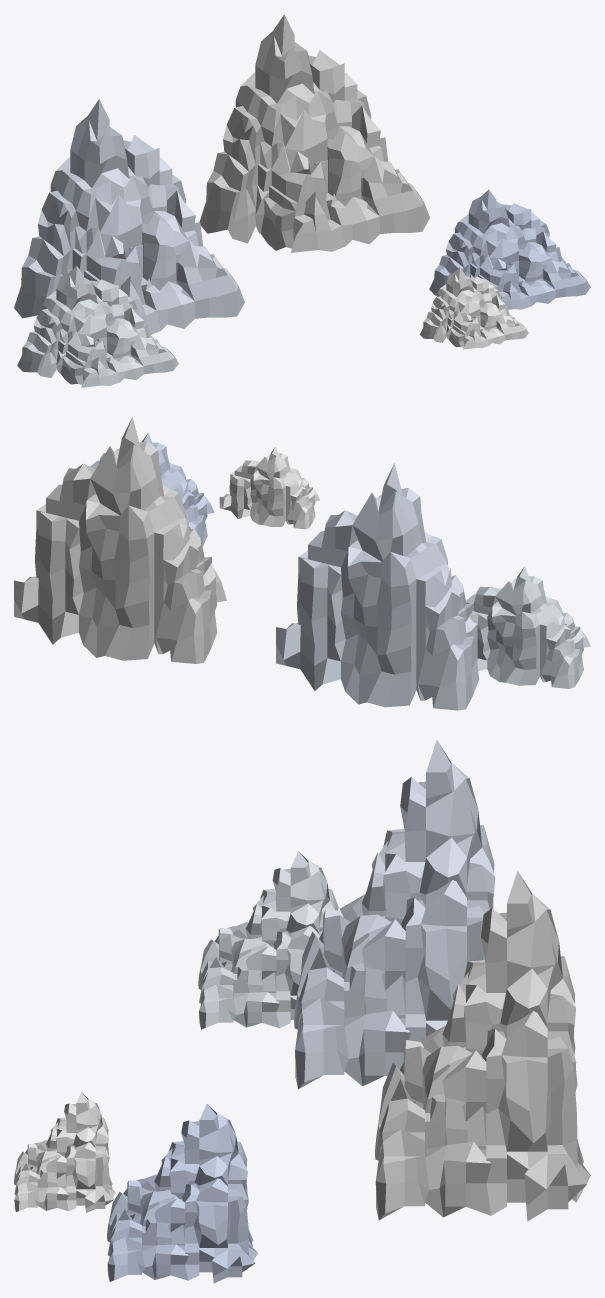
File: background.fbx
The picture shows the model from 3 angles, top to bottom: view 1: azimuth 30°, elevation 25°; view 2: azimuth 150°, elevation 25°; view 3: azimuth 270°, elevation 25°; orthographic projection. The views are drawn at different scales.
Parts seen in each view (by area): view 1: Grid, Grid.004, Grid.001, Grid.002, Grid.003; view 2: Grid, Grid.004, Grid.001, Grid.003, Grid.002; view 3: Grid, Grid.004, Grid.002, Grid.001, Grid.003.
Boxes of the visible parts, box(x1,y1,x2,y2) form: Grid: box(199, 14, 429, 252); Grid.004: box(14, 99, 244, 334); Grid.001: box(17, 266, 178, 387); Grid.002: box(429, 189, 590, 309); Grid.003: box(420, 267, 528, 349); Grid: box(14, 416, 226, 663); Grid.004: box(276, 463, 479, 710); Grid.001: box(466, 566, 590, 688); Grid.003: box(219, 447, 319, 529); Grid.002: box(90, 432, 214, 546); Grid: box(375, 871, 590, 1221); Grid.004: box(294, 740, 495, 1089); Grid.002: box(107, 1104, 258, 1283); Grid.001: box(198, 851, 338, 1029); Grid.003: box(14, 1092, 115, 1212).
Bounding box in the file's own units: 1745 × 751 × 1231.
